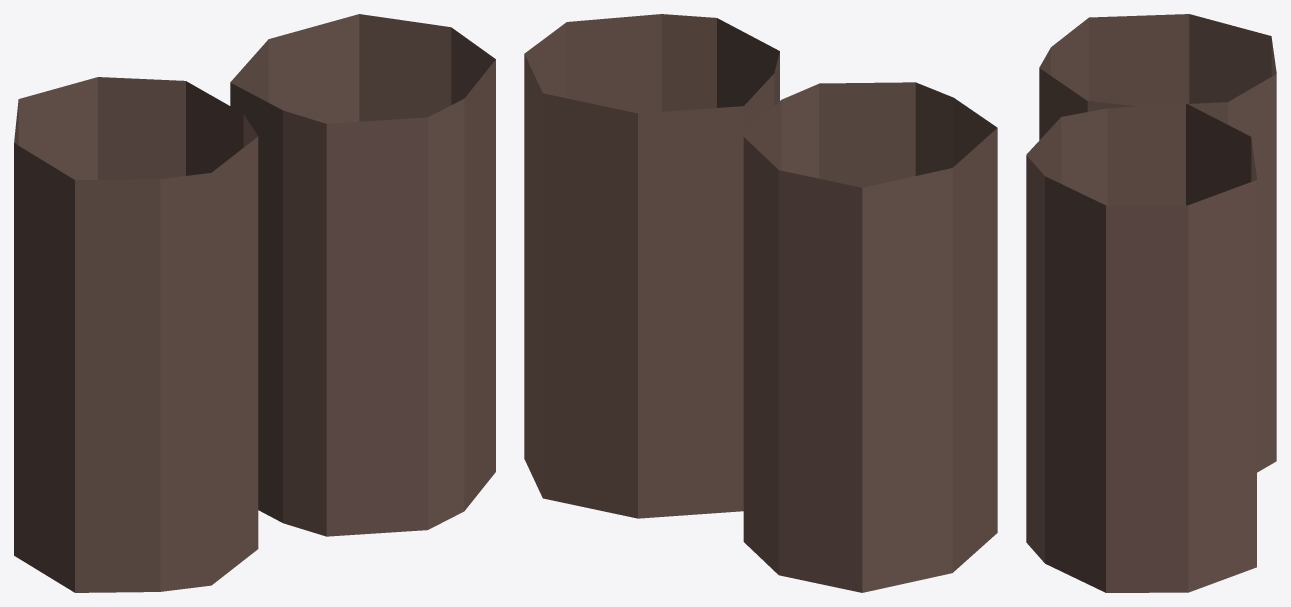
The picture shows the model from 3 angles, left to right: view 1: azimuth 30°, elevation 25°; view 2: azimuth 150°, elevation 25°; view 3: azimuth 270°, elevation 25°; orthographic projection. The views are drawn at different scales.
Parts seen in each view (by area): view 1: stone03.005; view 2: stone03.005; view 3: stone03.005.
Boxes of the visible parts, box(x1,y1,x2,y2) form: stone03.005: box(14, 14, 495, 592); stone03.005: box(524, 14, 997, 592); stone03.005: box(1026, 14, 1276, 592).
Bounding box in the file's own units: 3884 × 3582 × 2053.
